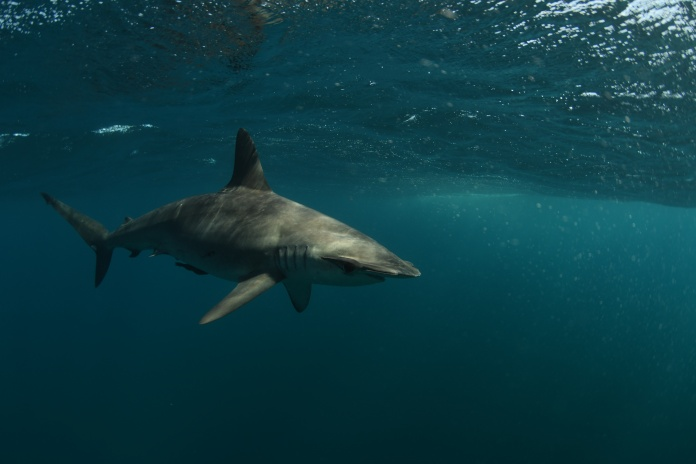Hammer: (37, 112, 459, 342)
